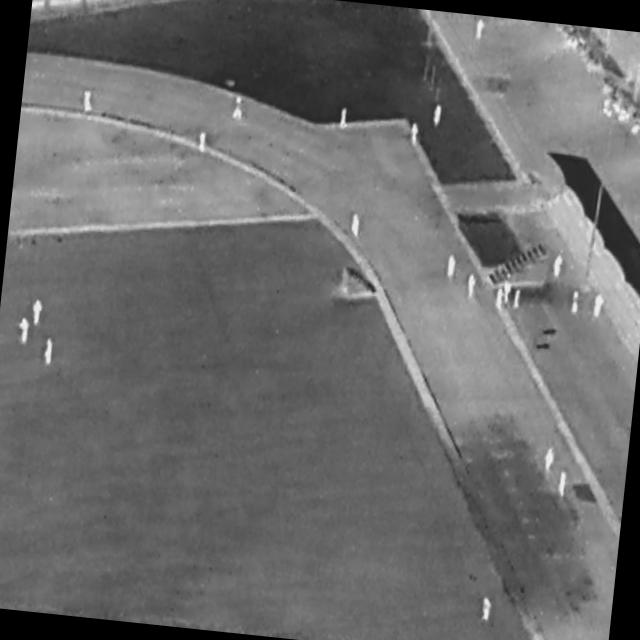person: (79, 88, 96, 115), (590, 292, 607, 319), (542, 446, 556, 476), (18, 318, 32, 344), (232, 96, 245, 122), (32, 300, 44, 326), (553, 255, 565, 281), (44, 339, 55, 367), (558, 472, 569, 498), (571, 290, 582, 316), (410, 123, 421, 149), (482, 597, 493, 622), (467, 275, 478, 300), (475, 20, 486, 42), (447, 256, 457, 279), (351, 214, 361, 237), (433, 104, 442, 129), (198, 131, 208, 153), (495, 289, 505, 311), (512, 290, 521, 311), (504, 282, 512, 304)
